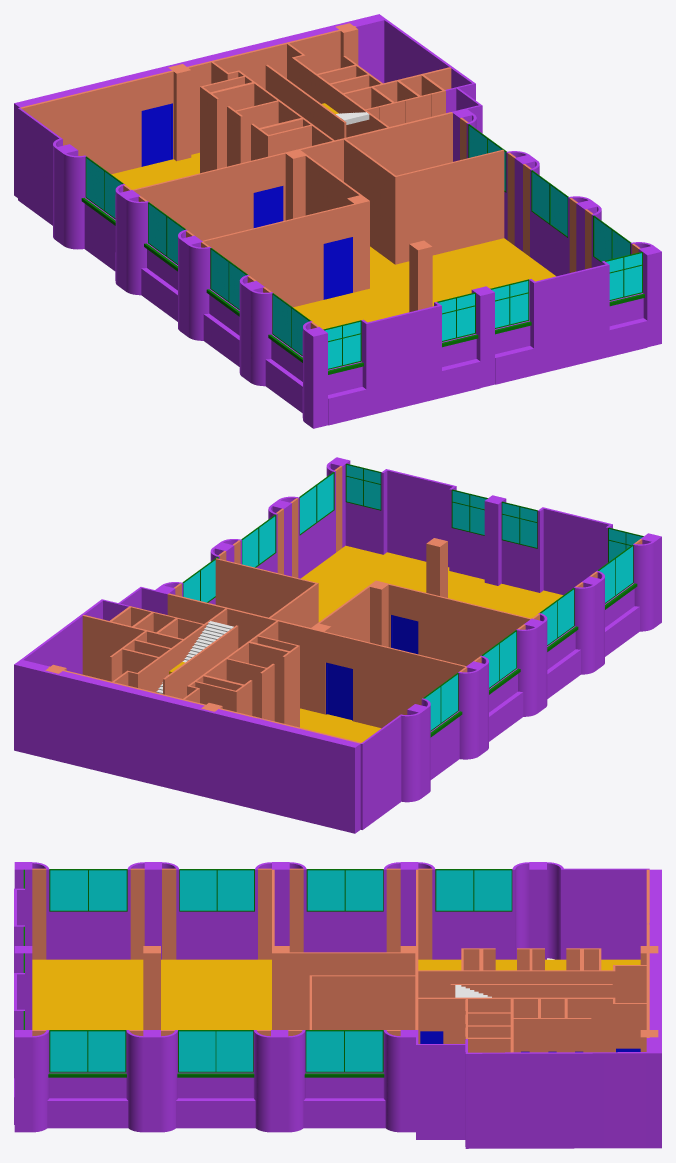
The picture shows the model from 3 angles, top to bottom: view 1: azimuth 30°, elevation 25°; view 2: azimuth 150°, elevation 25°; view 3: azimuth 270°, elevation 25°; orthographic projection. The views are drawn at different scales.
Visible parts, largest first — view 1: 物件_37, 物件_249, 物件_2, 物件_288, 物件_295, 物件_199, 物件_232, 物件_226, 物件_124, 物件_204, 物件_327, 物件_233 (+59 smaller); view 2: 物件_327, 物件_37, 物件_2, 物件_226, 物件_288, 物件_232, 物件_295, 物件_326, 物件_249, 物件_124, 物件_115, 物件_219 (+48 smaller); view 3: 物件_219, 物件_37, 物件_326, 物件_233, 物件_2, 物件_1, 物件_73, 物件_263, 物件_327, 物件_220, 物件_262, 物件_318 (+63 smaller).
Part boxes in pixels (x1,y1,x2,y2): 物件_37: [111, 152, 555, 329]; 物件_249: [396, 149, 504, 263]; 物件_2: [200, 70, 322, 173]; 物件_288: [529, 261, 609, 375]; 物件_295: [361, 302, 441, 416]; 物件_199: [20, 78, 141, 174]; 物件_232: [202, 212, 320, 307]; 物件_226: [132, 161, 251, 240]; 物件_124: [299, 112, 452, 181]; 物件_204: [187, 30, 340, 154]; 物件_327: [14, 14, 386, 197]; 物件_233: [344, 139, 397, 264]; 物件_327: [14, 659, 360, 833]; 物件_37: [300, 545, 562, 742]; 物件_2: [187, 629, 299, 727]; 物件_226: [355, 639, 466, 728]; 物件_288: [381, 469, 456, 571]; 物件_232: [420, 591, 531, 665]; 物件_295: [537, 507, 612, 595]; 物件_326: [360, 715, 401, 829]; 物件_249: [215, 558, 315, 617]; 物件_124: [167, 593, 310, 710]; 物件_115: [82, 615, 182, 680]; 物件_219: [21, 600, 102, 674]; 物件_219: [468, 1052, 646, 1148]; 物件_37: [32, 959, 640, 1029]; 物件_326: [564, 868, 649, 959]; 物件_233: [309, 975, 415, 1029]; 物件_2: [443, 948, 615, 997]; 物件_1: [443, 997, 615, 1052]; 物件_73: [418, 1044, 465, 1139]; 物件_263: [49, 911, 127, 959]; 物件_327: [646, 869, 661, 1148]; 物件_220: [289, 952, 400, 1029]; 物件_262: [179, 911, 254, 959]; 物件_318: [435, 911, 512, 959].
Bounding box in the file's own units: 1170 × 271 × 1672.
